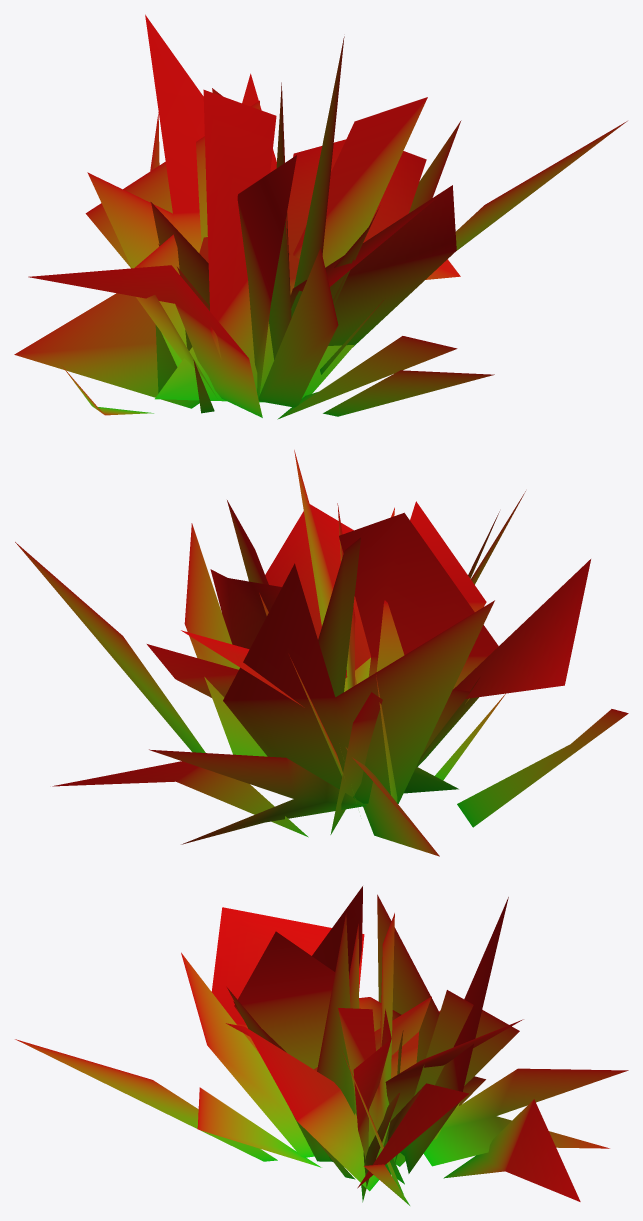
The model's file is Tundra Grass_LOD6_Var1_wk2oaeyqx.fbx.
The picture shows the model from 3 angles, top to bottom: view 1: azimuth 30°, elevation 25°; view 2: azimuth 150°, elevation 25°; view 3: azimuth 270°, elevation 25°; orthographic projection. The views are drawn at different scales.
Parts seen in each view (by area): view 1: _7v0h_Var1_LOD6; view 2: _7v0h_Var1_LOD6; view 3: _7v0h_Var1_LOD6.
Part boxes in pixels (x1=…): _7v0h_Var1_LOD6: x1=14, y1=14, x2=627, y2=419; _7v0h_Var1_LOD6: x1=15, y1=450, x2=628, y2=856; _7v0h_Var1_LOD6: x1=15, y1=886, x2=628, y2=1205.
Bounding box in the file's own units: 38.66 × 22.36 × 41.18.
